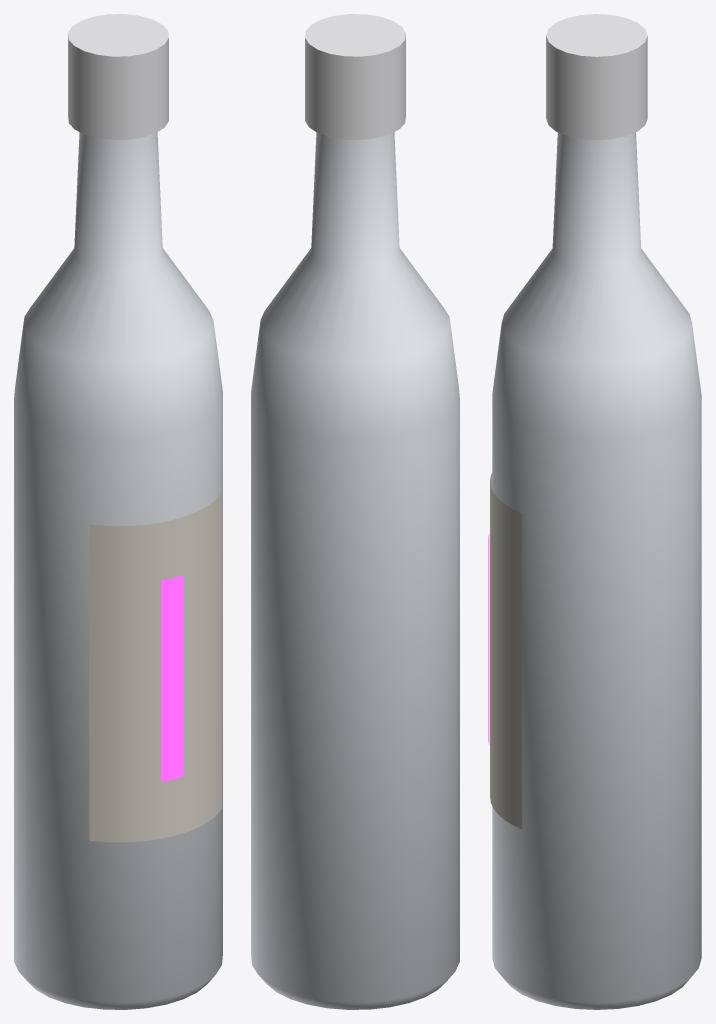
The model's file is KIT_Garrafa_Rosa.glb.
3 renders of one model, left to right at view 1: azimuth 30°, elevation 25°; view 2: azimuth 150°, elevation 25°; view 3: azimuth 270°, elevation 25°, orthographic.
Visible parts, largest first — view 1: KIT_Garrafa_Rosa; view 2: KIT_Garrafa_Rosa; view 3: KIT_Garrafa_Rosa.
Part boxes in pixels (box(x1,y1,x2,y2)): KIT_Garrafa_Rosa: box(14, 14, 222, 1009); KIT_Garrafa_Rosa: box(251, 14, 459, 1009); KIT_Garrafa_Rosa: box(488, 14, 701, 1009).
Size of the model in its own units: 0.066 by 0.325 by 0.0672.
